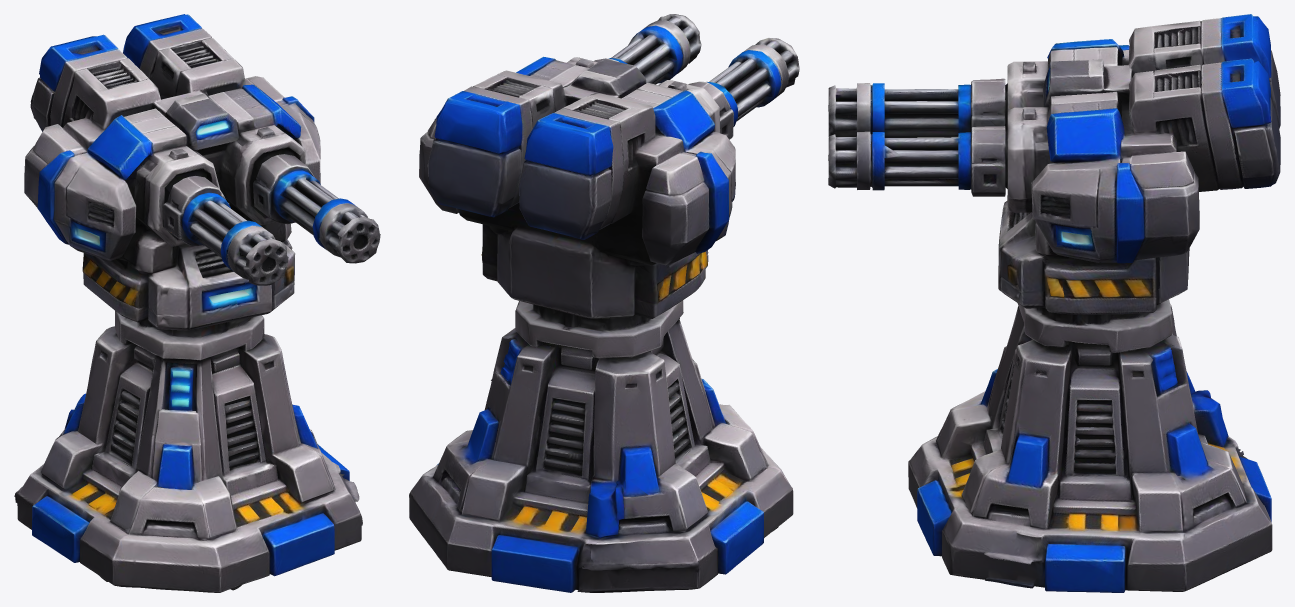
The picture shows the model from 3 angles, left to right: view 1: azimuth 30°, elevation 25°; view 2: azimuth 150°, elevation 25°; view 3: azimuth 270°, elevation 25°; orthographic projection. The views are drawn at different scales.
Parts seen in each view (by area): view 1: top, base; view 2: base, top; view 3: top, base.
Part boxes in pixels (x1,y1,x2,y2): top: (24,14,380,336); base: (14,311,362,592); base: (409,300,793,592); top: (419,14,799,329); top: (828,14,1280,324); base: (908,299,1272,592).
Size of the model in its own units: 0.664 by 1 by 0.8594.
1 material, 1 textured.
